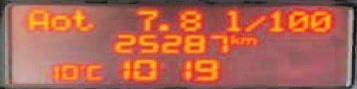-: (156, 21, 170, 32)
0: (131, 57, 158, 80), (309, 10, 332, 32), (286, 9, 307, 33), (59, 64, 77, 81)
1: (268, 8, 285, 33), (118, 58, 131, 80), (181, 58, 192, 80), (52, 65, 59, 80)
2: (113, 33, 136, 53), (158, 33, 181, 53)
5: (134, 33, 158, 53)
7: (131, 9, 158, 32), (206, 33, 228, 53)
8: (177, 9, 201, 32), (182, 33, 205, 53)
9: (192, 58, 219, 81)
X: (70, 8, 94, 32), (26, 8, 49, 32), (222, 8, 241, 32), (49, 13, 72, 31), (244, 15, 267, 32), (228, 33, 259, 45), (83, 63, 103, 80)
